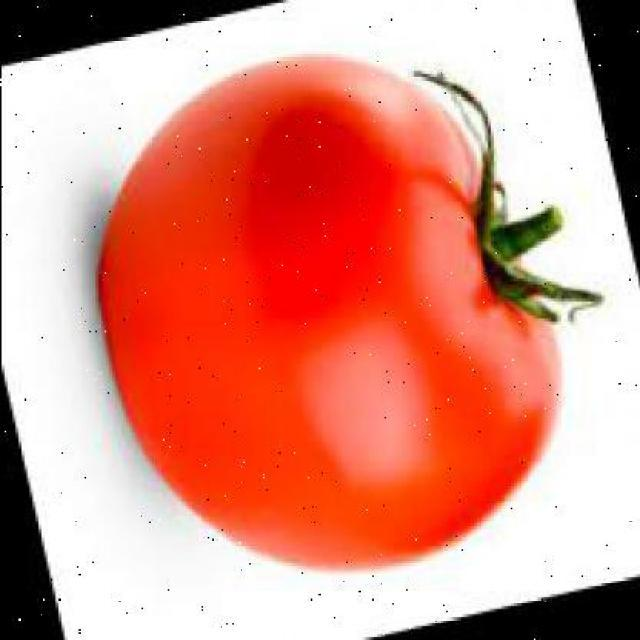tomato: (98, 52, 603, 570)
